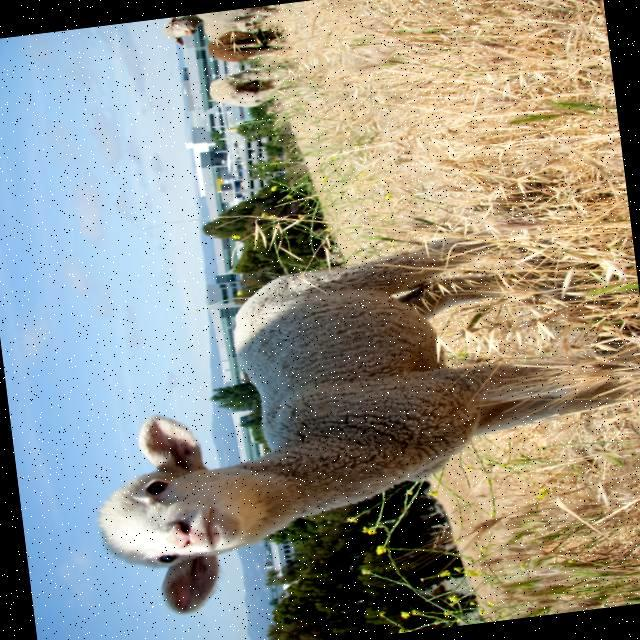sheep: (97, 241, 625, 613)
